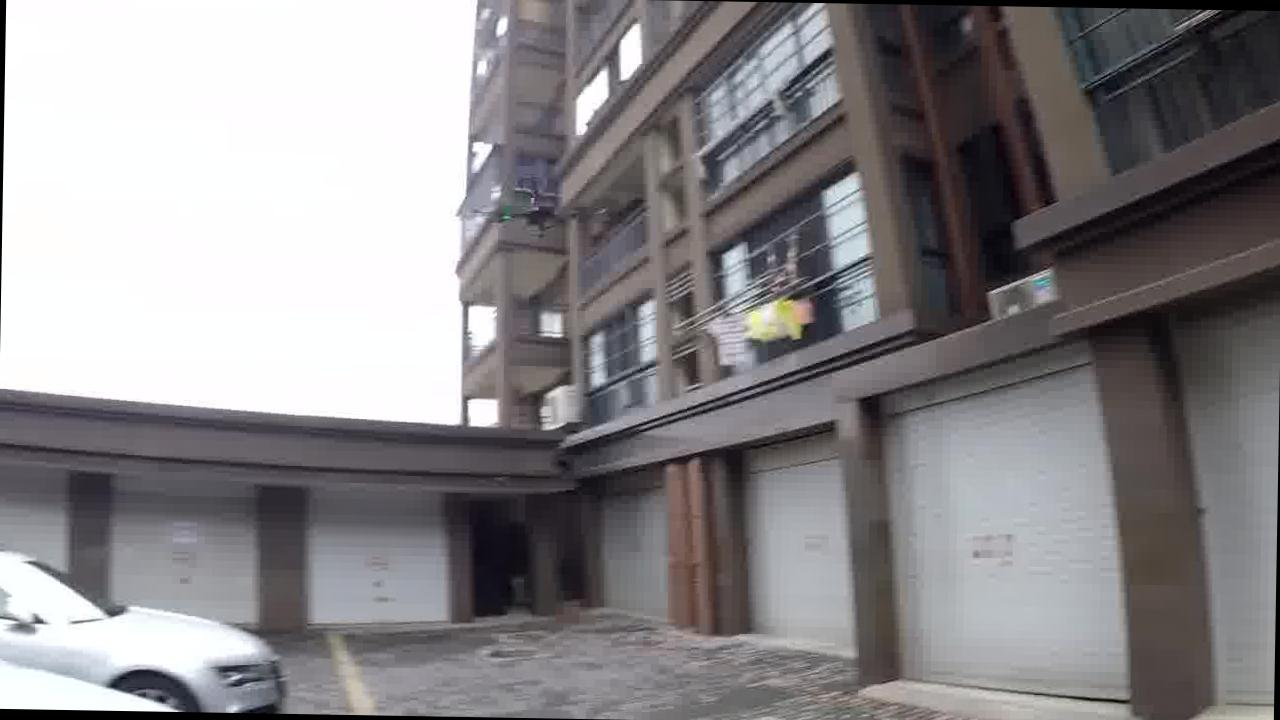drone: (475, 179, 567, 243)
